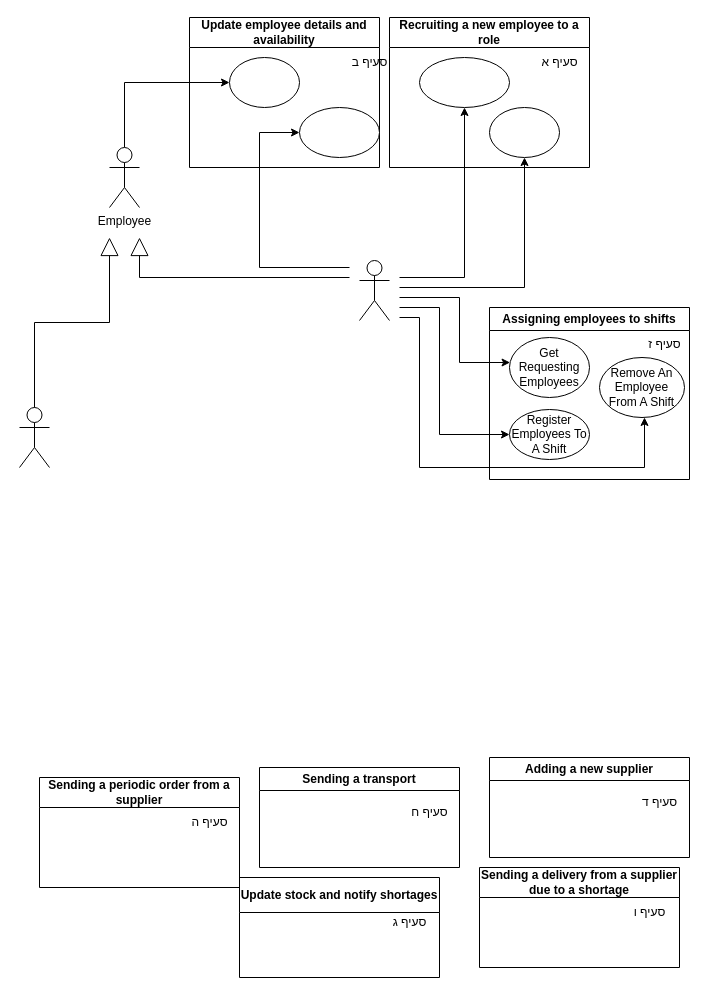
This 707x995 diagram has some shape labels left out. The shapes that lost their labels are listed below. From the top down, each one's centre as x and y in pixels, then its label:
At (x=264, y=82): "Request Shift".
At (x=464, y=82): "Certify Employee".
At (x=339, y=132): "Update Employee Details".
At (x=524, y=132): "Recruit Employee".
At (x=374, y=290): "HR Manager".
At (x=34, y=437): "Driver".
